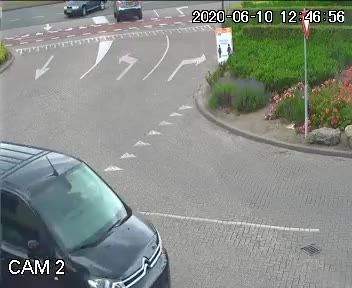car: (0, 134, 178, 288), (64, 0, 103, 20), (114, 0, 141, 26)
